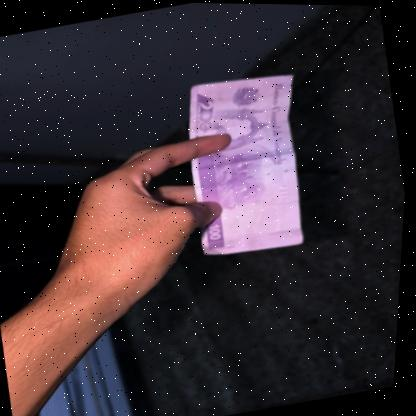one_hundred-back-vef: (172, 65, 327, 262)
